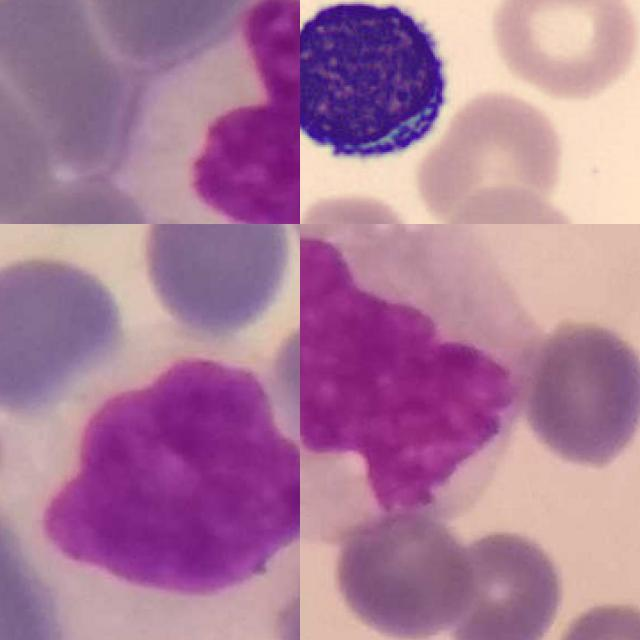Lymphocyte: (300, 0, 461, 182)
Monocyte: (4, 331, 300, 640), (300, 224, 541, 534), (133, 0, 300, 224)
RBC: (411, 83, 568, 224), (484, 0, 640, 102), (426, 185, 593, 224), (300, 187, 427, 224)
